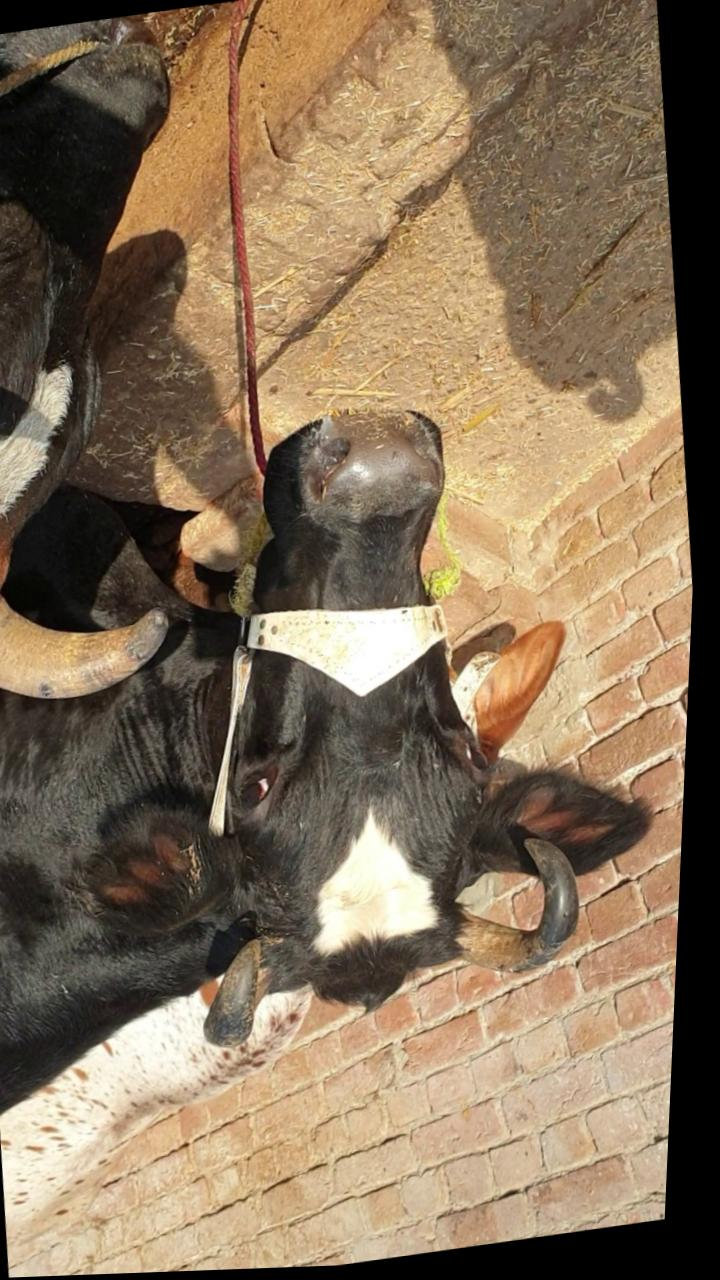cows: (155, 368, 618, 1086), (0, 14, 205, 742)
